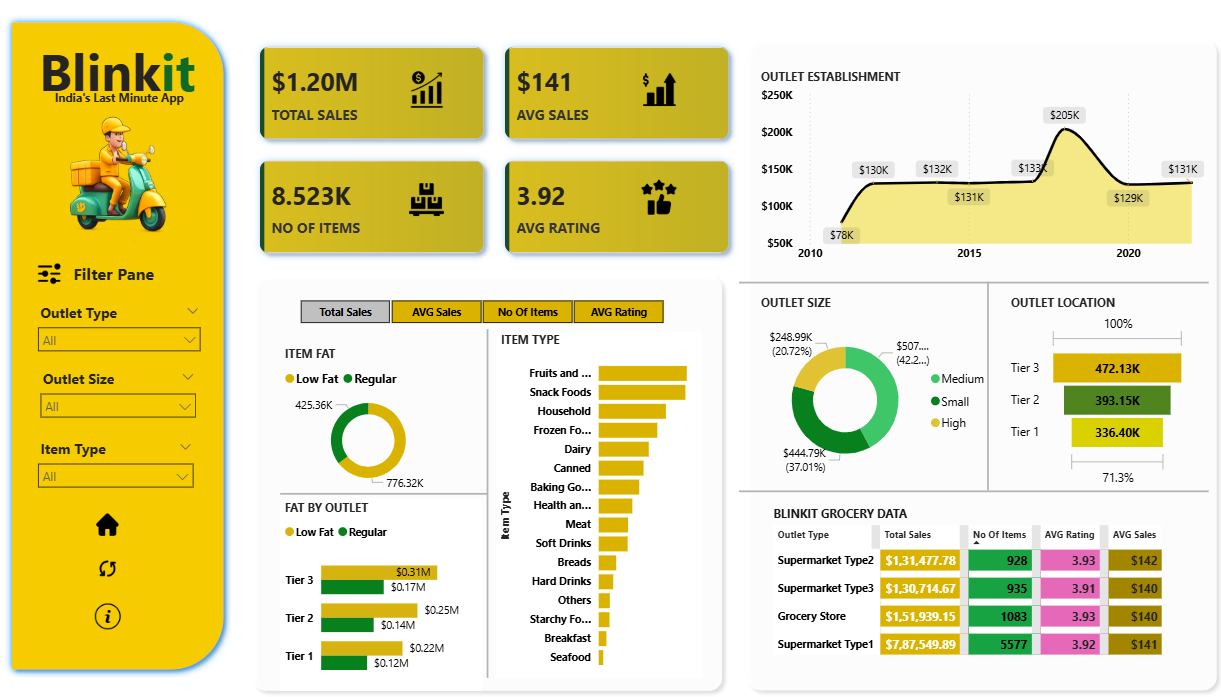

What the dashboard file says about the page in this screenshot:
{"tool":"powerbi","page":{"name":"Page 1","canvas":[1400,800],"ordinal":0},"visuals":[{"type":"textbox","box":[305,660,280,131.7],"z":0},{"type":"shape","box":[6,18,260,758],"z":1000},{"type":"cardVisual","fields":{"Data":["BlinkIT Grocery Data.Total Sales","BlinkIT Grocery Data.AVG Sales","BlinkIT Grocery Data.No Of Items","BlinkIT Grocery Data.AVG Rating"]},"box":[282,38,570,270],"z":2000},{"type":"textbox","box":[34,38,202,100],"z":3000},{"type":"textbox","box":[58,100,224,38],"z":4000},{"type":"image","box":[0,120,282,218],"z":5000},{"type":"image","box":[408,78,160,52],"z":6000},{"type":"image","box":[675,203.3,160,50],"z":7000},{"type":"image","box":[685,80,140,50],"z":8000},{"type":"image","box":[408,206,160,50],"z":9000},{"type":"shape","box":[282,308,554,492],"z":10000},{"type":"donutChart","title":"ITEM FAT","fields":{"Y":["Sum(BlinkIT Grocery Data.Sales)"],"Category":["BlinkIT Grocery Data.Item Fat Content"]},"box":[321.7,396.7,201.7,170],"z":11000},{"type":"slicer","fields":{"Values":["Matrix.Matrix"]},"box":[318.3,338.3,465,40],"z":12000},{"type":"clusteredBarChart","title":"FAT BY OUTLET","fields":{"Y":["BlinkIT Grocery Data.Total Sales"],"Category":["BlinkIT Grocery Data.Outlet Location Type"],"Series":["BlinkIT Grocery Data.Item Fat Content"]},"box":[321.7,572.6,230.4,219.5],"z":13000},{"type":"barChart","title":"ITEM TYPE","fields":{"Y":["BlinkIT Grocery Data.Total Sales"],"Category":["BlinkIT Grocery Data.Item Type"]},"box":[568.3,381.7,235,395],"z":14000},{"type":"shape","box":[845,38.3,555,761.7],"z":15000},{"type":"lineChart","title":"OUTLET ESTABLISHMENT","fields":{"Y":["BlinkIT Grocery Data.Total Sales"],"Category":["BlinkIT Grocery Data.Outlet Establishment Year"]},"box":[865,80,516.7,230],"z":16000},{"type":"donutChart","title":"OUTLET SIZE","fields":{"Y":["BlinkIT Grocery Data.Total Sales"],"Category":["BlinkIT Grocery Data.Outlet Size"]},"box":[865,338.3,275,225],"z":17000},{"type":"funnel","title":"OUTLET LOCATION","fields":{"Y":["Sum(BlinkIT Grocery Data.Sales)"],"Category":["BlinkIT Grocery Data.Outlet Location Type"]},"box":[1151.7,338.3,210,225],"z":18000},{"type":"pivotTable","title":"BLINKIT GROCERY DATA","fields":{"Values":["BlinkIT Grocery Data.Total Sales","BlinkIT Grocery Data.No Of Items","BlinkIT Grocery Data.AVG Rating","BlinkIT Grocery Data.AVG Sales"],"Rows":["BlinkIT Grocery Data.Outlet Type"]},"box":[880,580,466.7,176.7],"z":19000},{"type":"shape","box":[321.7,407.6,237.2,319],"z":20000},{"type":"shape","box":[520,378.3,76.7,398.3],"z":21000},{"type":"shape","box":[845,268.3,536.7,113.3],"z":22000},{"type":"shape","box":[1098.3,325,63.3,238.3],"z":23000},{"type":"shape","box":[845,506.7,536.7,113.3],"z":24000},{"type":"image","box":[38.1,291.7,38.1,47.1],"z":25000},{"type":"image","box":[94.1,584.9,60,35.4],"z":26000},{"type":"image","box":[94.1,635.3,60,32.7],"z":27000},{"type":"image","box":[94.1,687.1,60,39.5],"z":28000},{"type":"textbox","box":[80,296.7,111.7,41.7],"z":29000},{"type":"slicer","fields":{"Values":["BlinkIT Grocery Data.Outlet Type"]},"box":[34.1,342.2,205.9,73.6],"z":30000},{"type":"slicer","fields":{"Values":["BlinkIT Grocery Data.Outlet Size"]},"box":[36.8,418.5,197.7,73.6],"z":31000},{"type":"slicer","fields":{"Values":["BlinkIT Grocery Data.Item Type"]},"box":[34.1,499,197.7,73.6],"z":32000}]}

Visuals, with their boxes in screenshot pixels (x1, y1, x2, y2), scaled from the page's 1400x800 canvas onto the 1221x697 screenshot:
textbox: [x1=266, y1=575, x2=510, y2=690]
shape: [x1=5, y1=16, x2=232, y2=676]
cardVisual - BlinkIT Grocery Data.Total Sales x BlinkIT Grocery Data.AVG Sales: [x1=246, y1=33, x2=743, y2=268]
textbox: [x1=30, y1=33, x2=206, y2=120]
textbox: [x1=51, y1=87, x2=246, y2=120]
image: [x1=0, y1=105, x2=246, y2=294]
image: [x1=356, y1=68, x2=495, y2=113]
image: [x1=589, y1=177, x2=728, y2=221]
image: [x1=597, y1=70, x2=720, y2=113]
image: [x1=356, y1=179, x2=495, y2=223]
shape: [x1=246, y1=268, x2=729, y2=696]
"ITEM FAT" donutChart: [x1=281, y1=346, x2=456, y2=494]
slicer - Matrix.Matrix: [x1=278, y1=295, x2=683, y2=330]
"FAT BY OUTLET" clusteredBarChart: [x1=281, y1=499, x2=482, y2=690]
"ITEM TYPE" barChart: [x1=496, y1=333, x2=701, y2=677]
shape: [x1=737, y1=33, x2=1220, y2=696]
"OUTLET ESTABLISHMENT" lineChart: [x1=754, y1=70, x2=1205, y2=270]
"OUTLET SIZE" donutChart: [x1=754, y1=295, x2=994, y2=491]
"OUTLET LOCATION" funnel: [x1=1004, y1=295, x2=1188, y2=491]
"BLINKIT GROCERY DATA" pivotTable: [x1=767, y1=505, x2=1175, y2=659]
shape: [x1=281, y1=355, x2=487, y2=633]
shape: [x1=454, y1=330, x2=520, y2=677]
shape: [x1=737, y1=234, x2=1205, y2=332]
shape: [x1=958, y1=283, x2=1013, y2=491]
shape: [x1=737, y1=441, x2=1205, y2=540]
image: [x1=33, y1=254, x2=66, y2=295]
image: [x1=82, y1=510, x2=134, y2=540]
image: [x1=82, y1=554, x2=134, y2=582]
image: [x1=82, y1=599, x2=134, y2=633]
textbox: [x1=70, y1=258, x2=167, y2=295]
slicer - BlinkIT Grocery Data.Outlet Type: [x1=30, y1=298, x2=209, y2=362]
slicer - BlinkIT Grocery Data.Outlet Size: [x1=32, y1=365, x2=205, y2=429]
slicer - BlinkIT Grocery Data.Item Type: [x1=30, y1=435, x2=202, y2=499]
